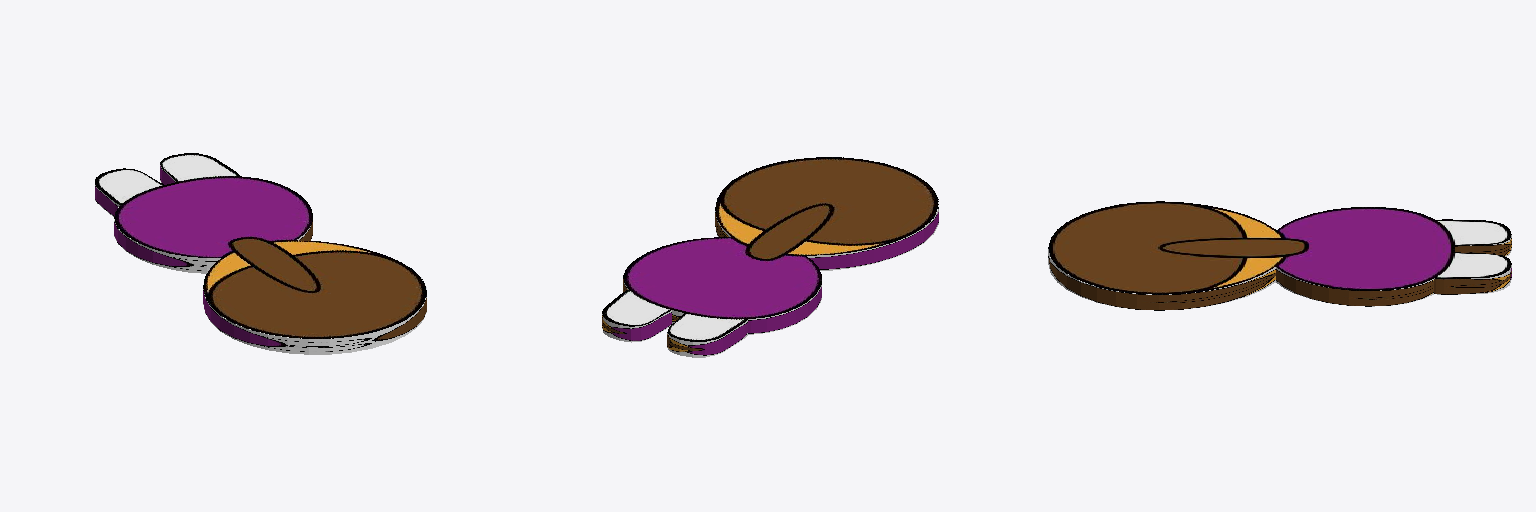
3 views of the same model, side by side, from view 1: azimuth 30°, elevation 25°; view 2: azimuth 150°, elevation 25°; view 3: azimuth 270°, elevation 25° (orthographic).
Parts seen in each view (by area): view 1: Spline_Object; view 2: Spline_Object; view 3: Spline_Object.
Boxes of the visible parts, x1,y1,x2,y2 form: Spline_Object: [95, 153, 426, 354]; Spline_Object: [602, 157, 938, 357]; Spline_Object: [1048, 201, 1511, 310].
Size of the model in its own units: 72.09 by 5.66 by 151.
Materials: 8 (1 with a texture image).